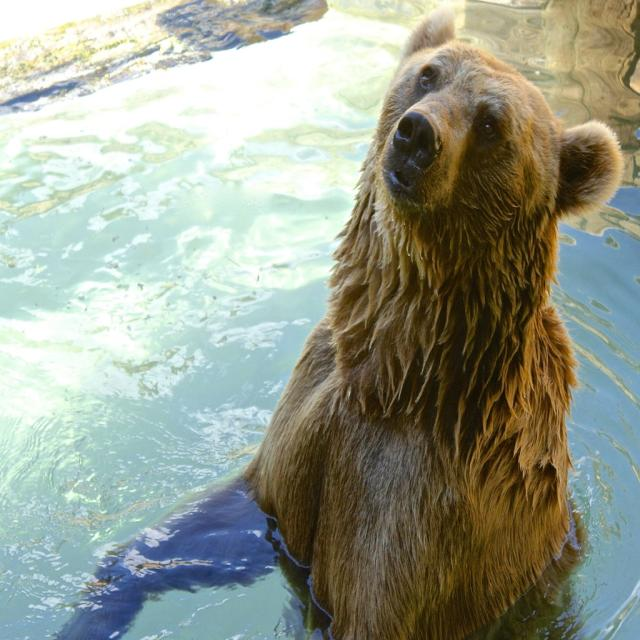Cheetahs: (52, 1, 626, 640)
